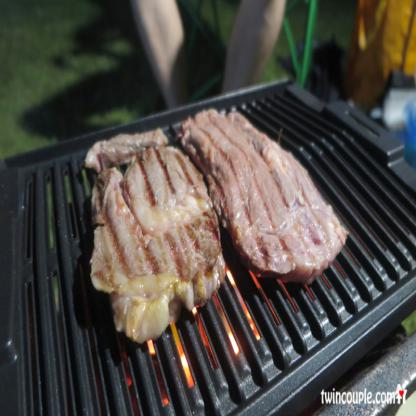Carne: (83, 129, 220, 333)
